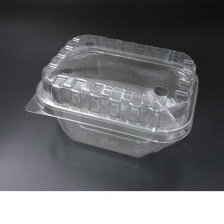plastic_box: (19, 26, 205, 165)
